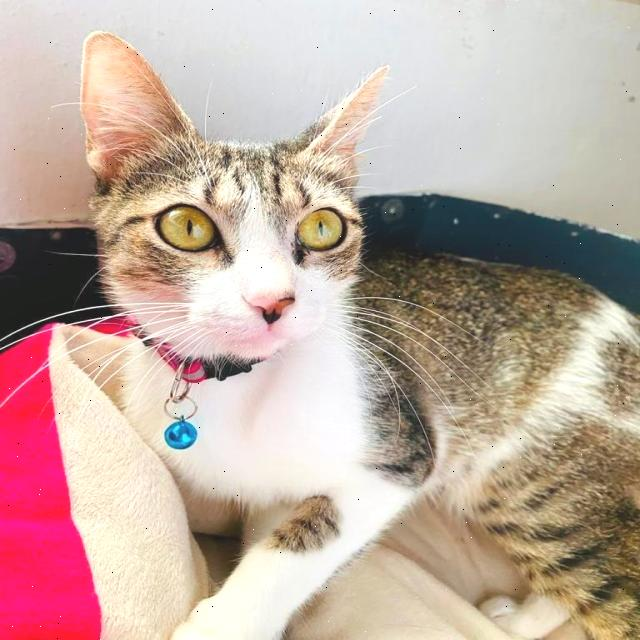american_shorthair_cat: (72, 30, 394, 382)
